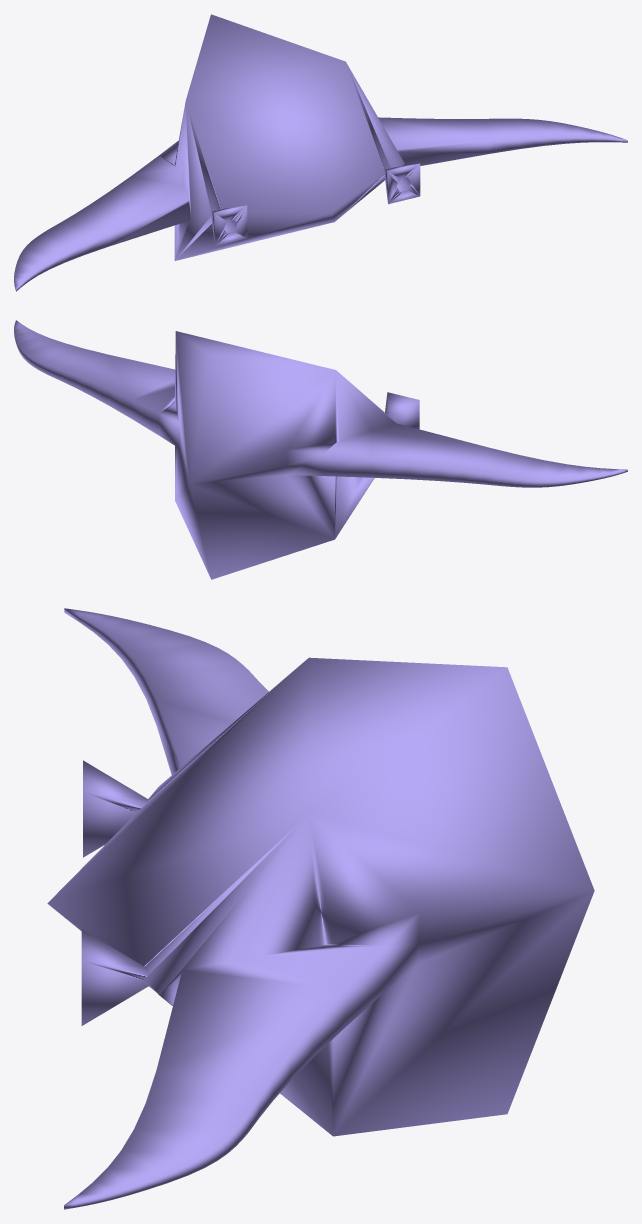
File: spaceship.obj
The picture shows the model from 3 angles, top to bottom: view 1: azimuth 30°, elevation 25°; view 2: azimuth 150°, elevation 25°; view 3: azimuth 270°, elevation 25°; orthographic projection. The views are drawn at different scales.
Parts seen in each view (by area): view 1: spaceship; view 2: spaceship; view 3: spaceship.
Part boxes in pixels (x1,y1,x2,y2): spaceship: [14, 14, 627, 291]; spaceship: [14, 320, 627, 579]; spaceship: [47, 608, 594, 1209].
Size of the model in its own units: 97.24 by 33.94 by 37.67.
